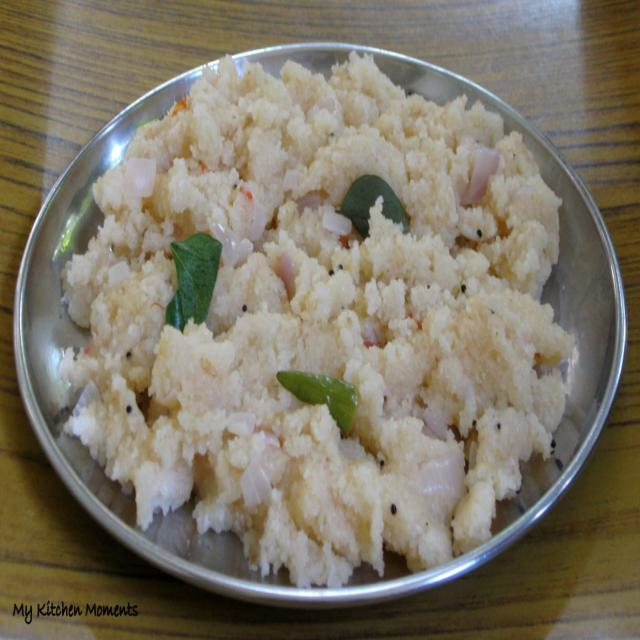upma: (50, 32, 586, 602)
